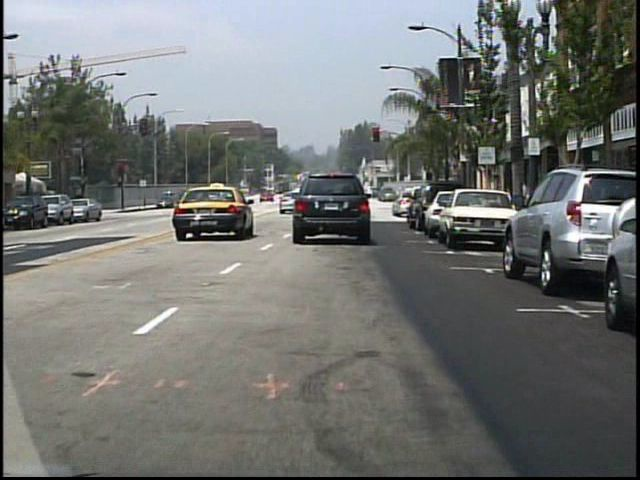person: (347, 187, 365, 218), (186, 188, 201, 213)
